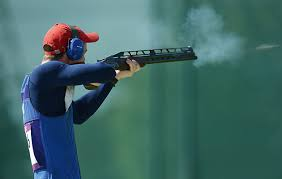Gun: (102, 49, 191, 69)
